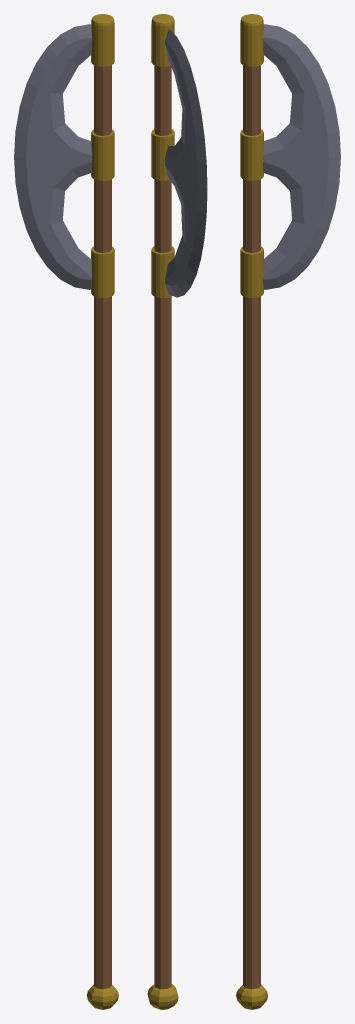
The model's file is Glaive.glb.
3 renders of one model, left to right at view 1: azimuth 90°, elevation 25°; view 2: azimuth 210°, elevation 25°; view 3: azimuth 270°, elevation 25°, orthographic.
Visible parts, largest first — view 1: Glaive; view 2: Glaive; view 3: Glaive.
Part boxes in pixels (bbox=[...]): Glaive: bbox=[14, 14, 118, 1009]; Glaive: bbox=[147, 14, 207, 1009]; Glaive: bbox=[236, 14, 340, 1009].
Bounding box in the file's own units: 0.0358 × 1.21 × 0.1164.
